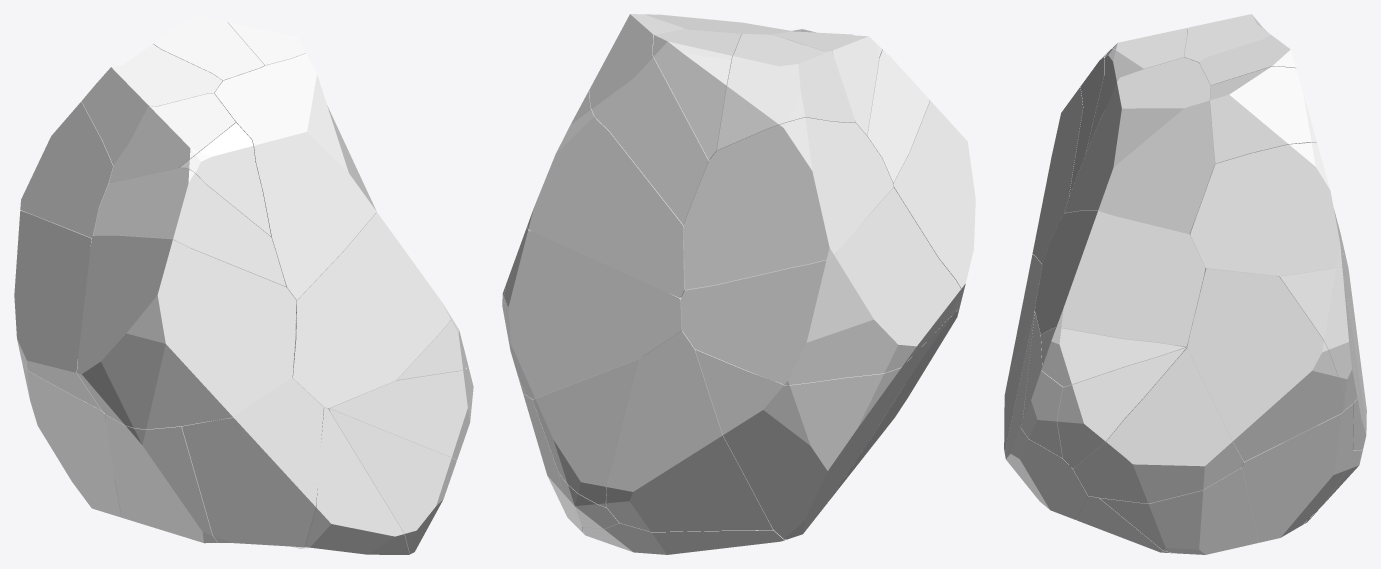
File: Medic_salt_2_broken.fbx
3 views of the same model, side by side, from view 1: azimuth 30°, elevation 25°; view 2: azimuth 150°, elevation 25°; view 3: azimuth 270°, elevation 25° (orthographic). The views are drawn at different scales.
Visible parts, largest first — view 1: medic_salt_2_cell.022, medic_salt_2_cell.026, medic_salt_2_cell.021, medic_salt_2_cell.014, medic_salt_2_cell.028, medic_salt_2_cell.007, medic_salt_2_cell.023, medic_salt_2_cell.008, medic_salt_2_cell.024, medic_salt_2_cell.015, medic_salt_2_cell.012, medic_salt_2_cell (+6 smaller); view 2: medic_salt_2_cell.007, medic_salt_2_cell.024, medic_salt_2_cell.013, medic_salt_2_cell.017, medic_salt_2_cell.003, medic_salt_2_cell.005, medic_salt_2_cell.019, medic_salt_2_cell.012, medic_salt_2_cell.022, medic_salt_2_cell.025, medic_salt_2_cell.018, medic_salt_2_cell.028 (+6 smaller); view 3: medic_salt_2_cell.009, medic_salt_2_cell.026, medic_salt_2_cell.021, medic_salt_2_cell.005, medic_salt_2_cell.004, medic_salt_2_cell.016, medic_salt_2_cell.019, medic_salt_2_cell.020, medic_salt_2_cell.001, medic_salt_2_cell.015, medic_salt_2_cell.029, medic_salt_2_cell.003 (+12 smaller).
Boxes of the visible parts, x1,y1,x2,y2 form: medic_salt_2_cell.022: [77, 235, 296, 429]; medic_salt_2_cell.026: [214, 53, 376, 300]; medic_salt_2_cell.021: [292, 212, 450, 407]; medic_salt_2_cell.014: [182, 378, 323, 548]; medic_salt_2_cell.028: [93, 168, 286, 286]; medic_salt_2_cell.007: [14, 210, 101, 410]; medic_salt_2_cell.023: [105, 414, 217, 543]; medic_salt_2_cell.008: [300, 407, 409, 554]; medic_salt_2_cell.024: [20, 101, 113, 237]; medic_salt_2_cell.015: [327, 408, 456, 554]; medic_salt_2_cell.012: [81, 44, 222, 165]; medic_salt_2_cell: [326, 369, 471, 459]; medic_salt_2_cell.007: [681, 187, 960, 385]; medic_salt_2_cell.024: [683, 117, 893, 289]; medic_salt_2_cell.013: [695, 319, 948, 539]; medic_salt_2_cell.017: [606, 331, 772, 531]; medic_salt_2_cell.003: [504, 226, 681, 399]; medic_salt_2_cell.005: [527, 91, 684, 298]; medic_salt_2_cell.019: [589, 14, 709, 224]; medic_salt_2_cell.012: [717, 34, 855, 150]; medic_salt_2_cell.022: [893, 100, 975, 319]; medic_salt_2_cell.025: [532, 357, 641, 507]; medic_salt_2_cell.018: [652, 28, 741, 159]; medic_salt_2_cell.028: [867, 49, 929, 182]; medic_salt_2_cell.009: [1187, 268, 1345, 461]; medic_salt_2_cell.026: [1064, 57, 1215, 234]; medic_salt_2_cell.021: [1035, 211, 1206, 347]; medic_salt_2_cell.005: [1190, 142, 1342, 275]; medic_salt_2_cell.004: [1073, 346, 1243, 503]; medic_salt_2_cell.016: [1242, 403, 1353, 542]; medic_salt_2_cell.019: [1210, 66, 1316, 163]; medic_salt_2_cell.020: [1100, 467, 1258, 554]; medic_salt_2_cell.001: [1057, 347, 1186, 468]; medic_salt_2_cell.015: [1005, 312, 1088, 519]; medic_salt_2_cell.029: [1041, 327, 1184, 386]; medic_salt_2_cell.003: [1276, 266, 1357, 409].
Bounding box in the file's own units: 183 × 225 × 167.
